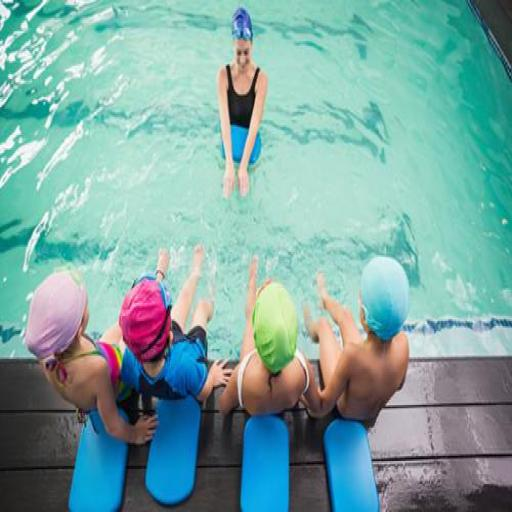swimming: (22, 267, 160, 449), (110, 240, 232, 408), (297, 254, 412, 430), (217, 254, 318, 422), (214, 5, 269, 201)
